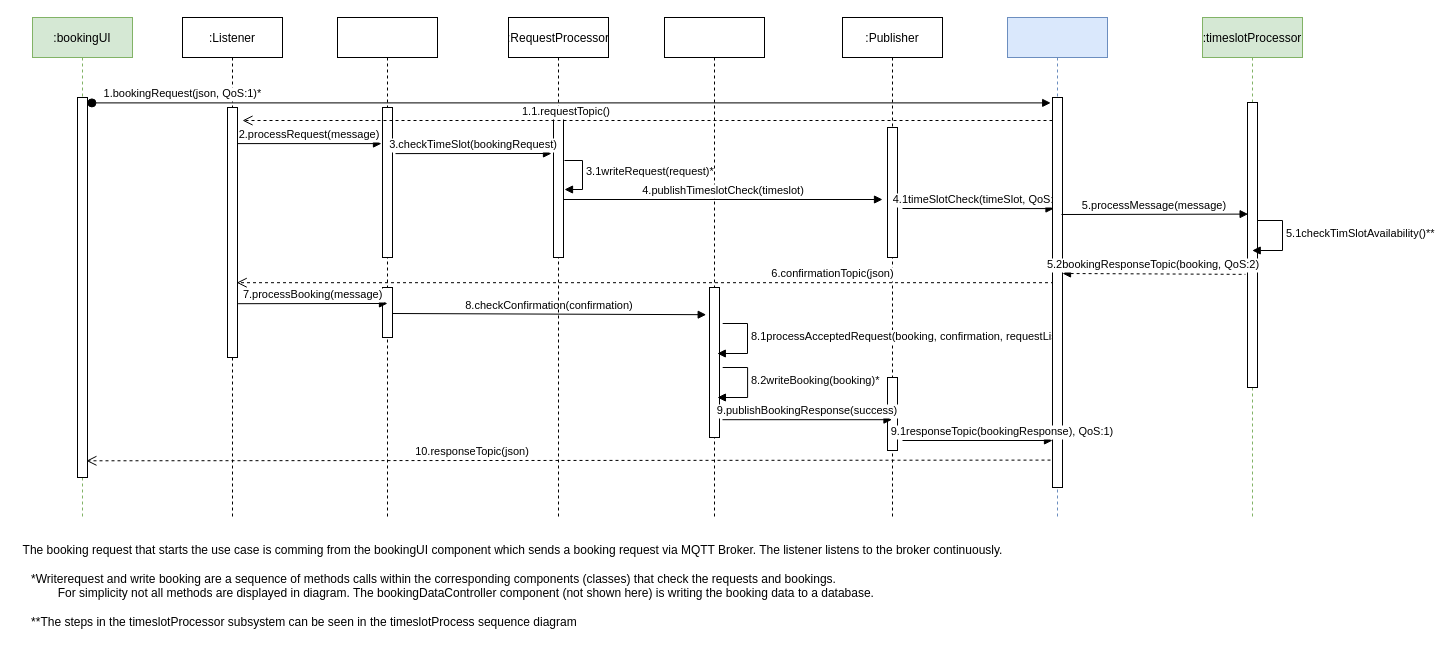
Some shapes in this 1452 by 648 pixel diagram are drawn without their labels. Here are the shapes that lost their labels. From the top down, the centre of each, then its label:
At (387,267): ":BookingController".
At (714,267): ":BookingProcessor".
At (1057,267): ":Broker".
